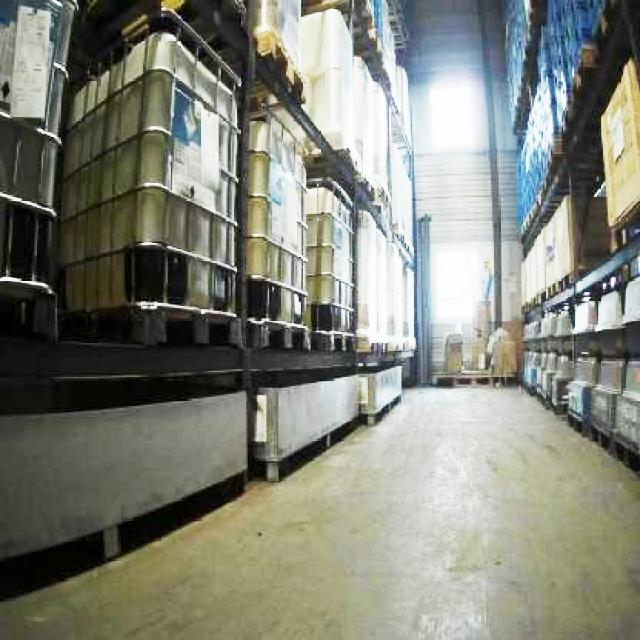ground: (0, 378, 638, 638)
pallet: (508, 0, 638, 638), (55, 11, 243, 348), (429, 329, 514, 386), (429, 368, 515, 386)
